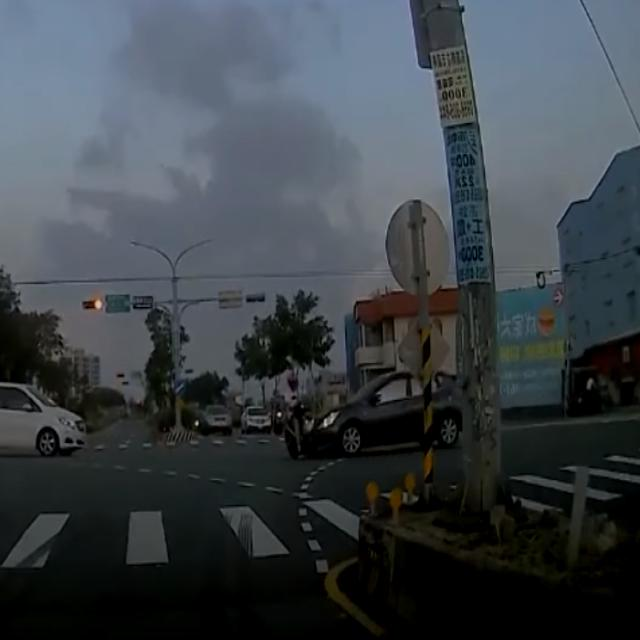accident: (282, 372, 463, 462)
